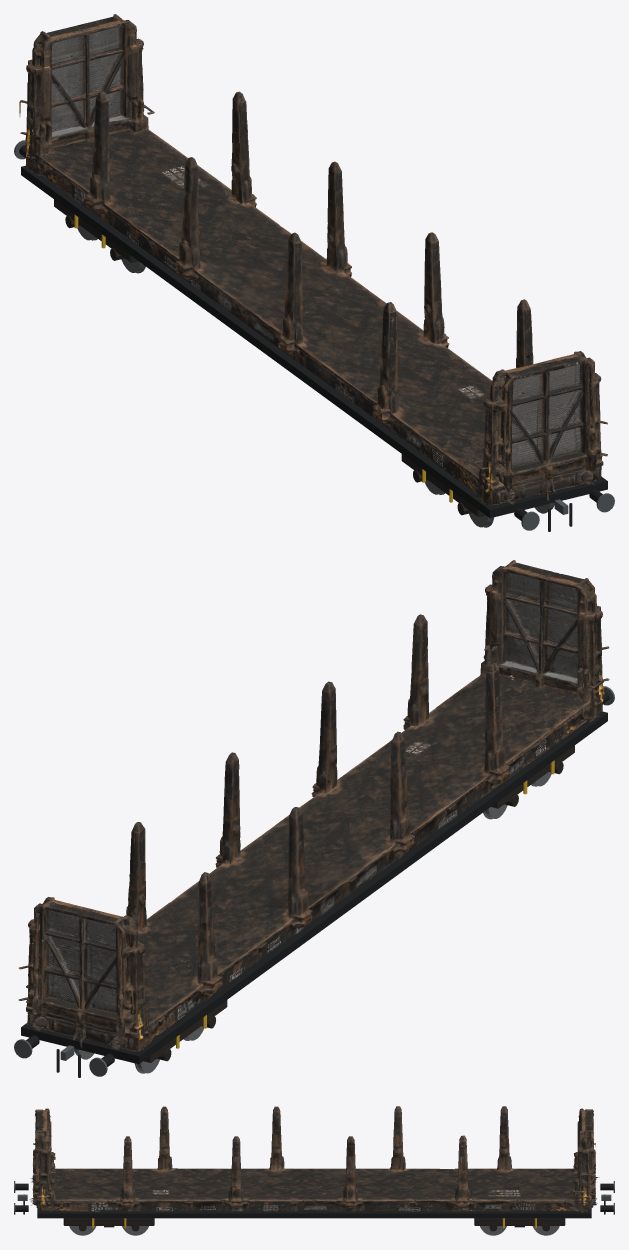
The model's file is roos.glb.
3 views of the same model, one above another, from view 1: azimuth 30°, elevation 25°; view 2: azimuth 150°, elevation 25°; view 3: azimuth 270°, elevation 25° (orthographic). The views are drawn at different scales.
Visible parts, largest first — view 1: roos_kori, roos_frame; view 2: roos_kori, roos_frame; view 3: roos_kori, roos_frame, Bogie_F_side1, Bogie_R_side1.
Boxes of the visible parts, <box> form: roos_kori: <box>19,14,607,505</box>; roos_frame: <box>21,165,607,518</box>; roos_kori: <box>18,560,609,1051</box>; roos_frame: <box>21,711,607,1064</box>; roos_kori: <box>30,1106,599,1212</box>; roos_frame: <box>37,1199,591,1218</box>; Bogie_F_side1: <box>63,1218,154,1225</box>; Bogie_R_side1: <box>474,1218,565,1225</box>.
Bounding box in the file's own units: 3 × 4.02 × 20.49.
7 materials, 1 textured.
